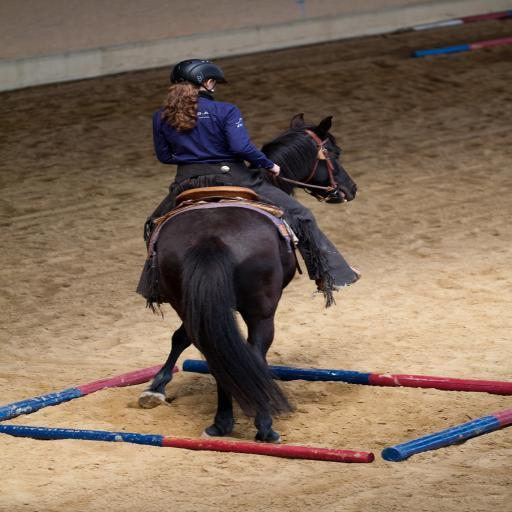horse: (132, 112, 362, 442)
